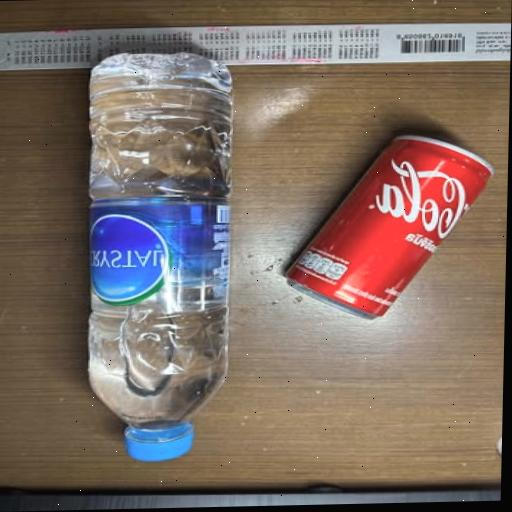ba: (18, 23, 257, 488)
bottle: (267, 99, 508, 346)
